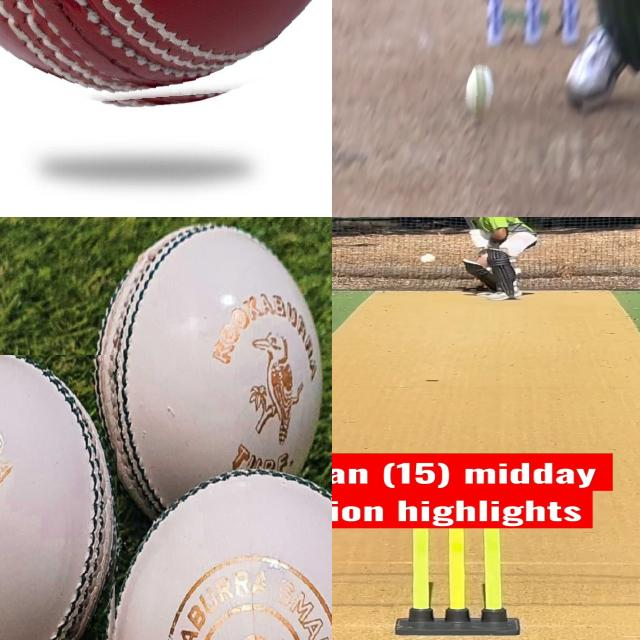Cricket ball: (96, 217, 331, 484), (110, 464, 332, 640), (0, 0, 332, 114), (0, 355, 119, 640), (465, 63, 496, 120), (419, 253, 436, 265)
Stumps: (404, 528, 514, 637)
